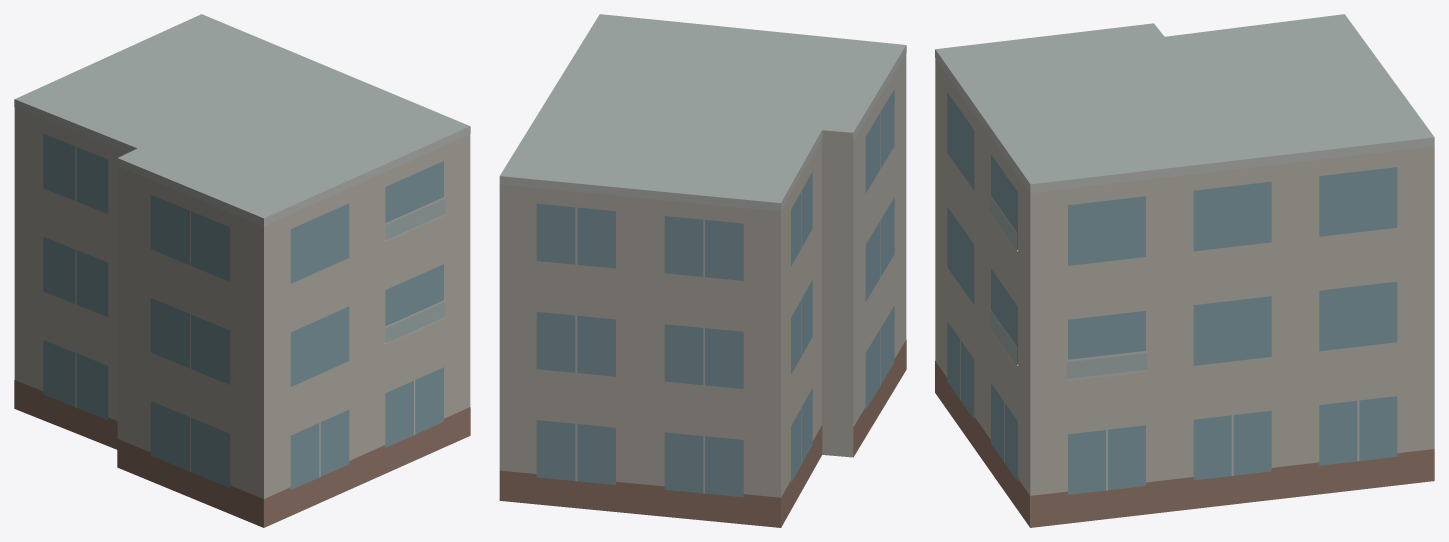
The model's file is survey-upis-32940592.glb.
3 views of the same model, side by side, from view 1: azimuth 30°, elevation 25°; view 2: azimuth 150°, elevation 25°; view 3: azimuth 270°, elevation 25° (orthographic). The views are drawn at different scales.
Parts seen in each view (by area): view 1: survey-upis-32940592.tmp; view 2: survey-upis-32940592.tmp; view 3: survey-upis-32940592.tmp.
Boxes of the visible parts, x1=… form: survey-upis-32940592.tmp: x1=14, y1=14, x2=470, y2=527; survey-upis-32940592.tmp: x1=499, y1=14, x2=906, y2=527; survey-upis-32940592.tmp: x1=935, y1=14, x2=1434, y2=527.
Size of the model in its own units: 10.11 by 9.5 by 12.53.
